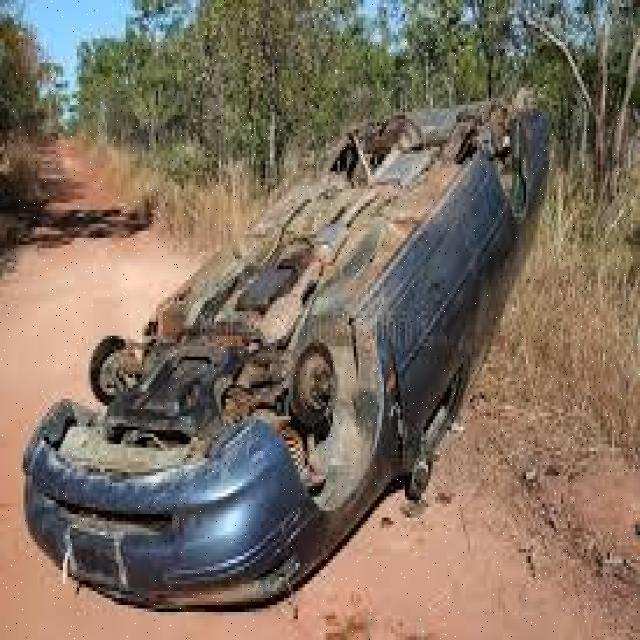severe: (18, 91, 555, 615)
